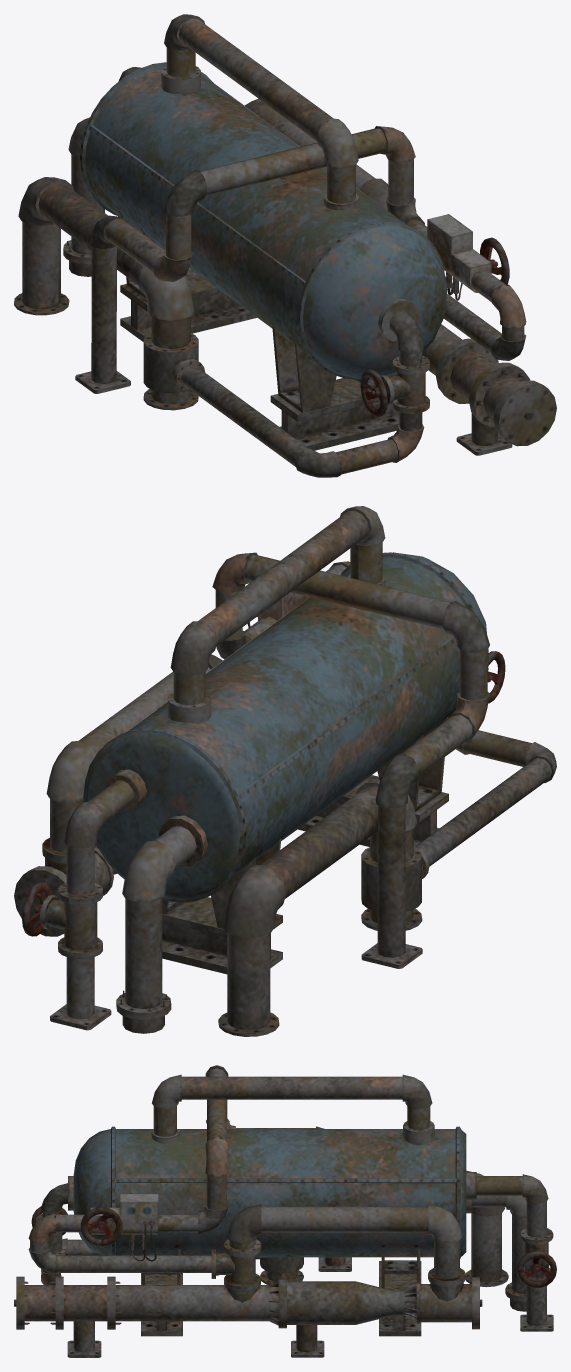
The model's file is sm22_092_pipe01a.fbx.
3 views of the same model, one above another, from view 1: azimuth 30°, elevation 25°; view 2: azimuth 150°, elevation 25°; view 3: azimuth 270°, elevation 25° (orthographic). The views are drawn at different scales.
Parts seen in each view (by area): view 1: LOD_1_Group_0_Sub_1__sm22_092_Pipe01A_A_Mat; view 2: LOD_1_Group_0_Sub_1__sm22_092_Pipe01A_A_Mat; view 3: LOD_1_Group_0_Sub_1__sm22_092_Pipe01A_A_Mat.
Boxes of the visible parts, x1=… form: LOD_1_Group_0_Sub_1__sm22_092_Pipe01A_A_Mat: x1=14, y1=14, x2=556, y2=477; LOD_1_Group_0_Sub_1__sm22_092_Pipe01A_A_Mat: x1=14, y1=506, x2=556, y2=1036; LOD_1_Group_0_Sub_1__sm22_092_Pipe01A_A_Mat: x1=14, y1=1065, x2=556, y2=1357.
Size of the model in its own units: 1.37 by 1.46 by 3.
